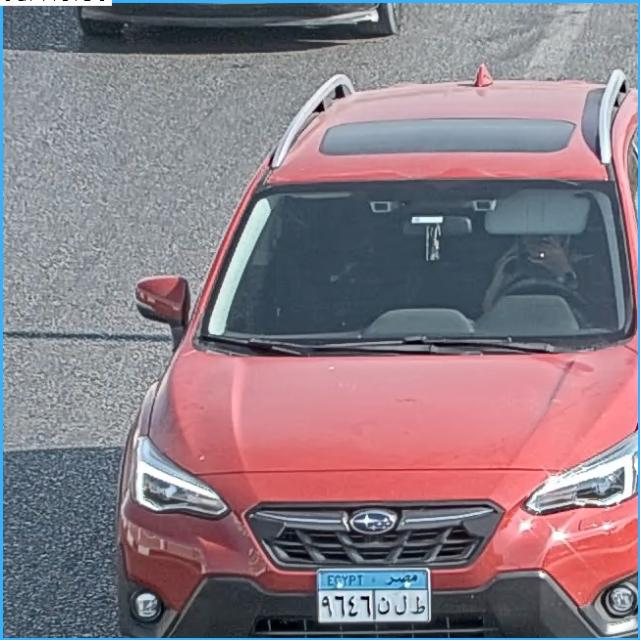windshield: (208, 188, 636, 342)
